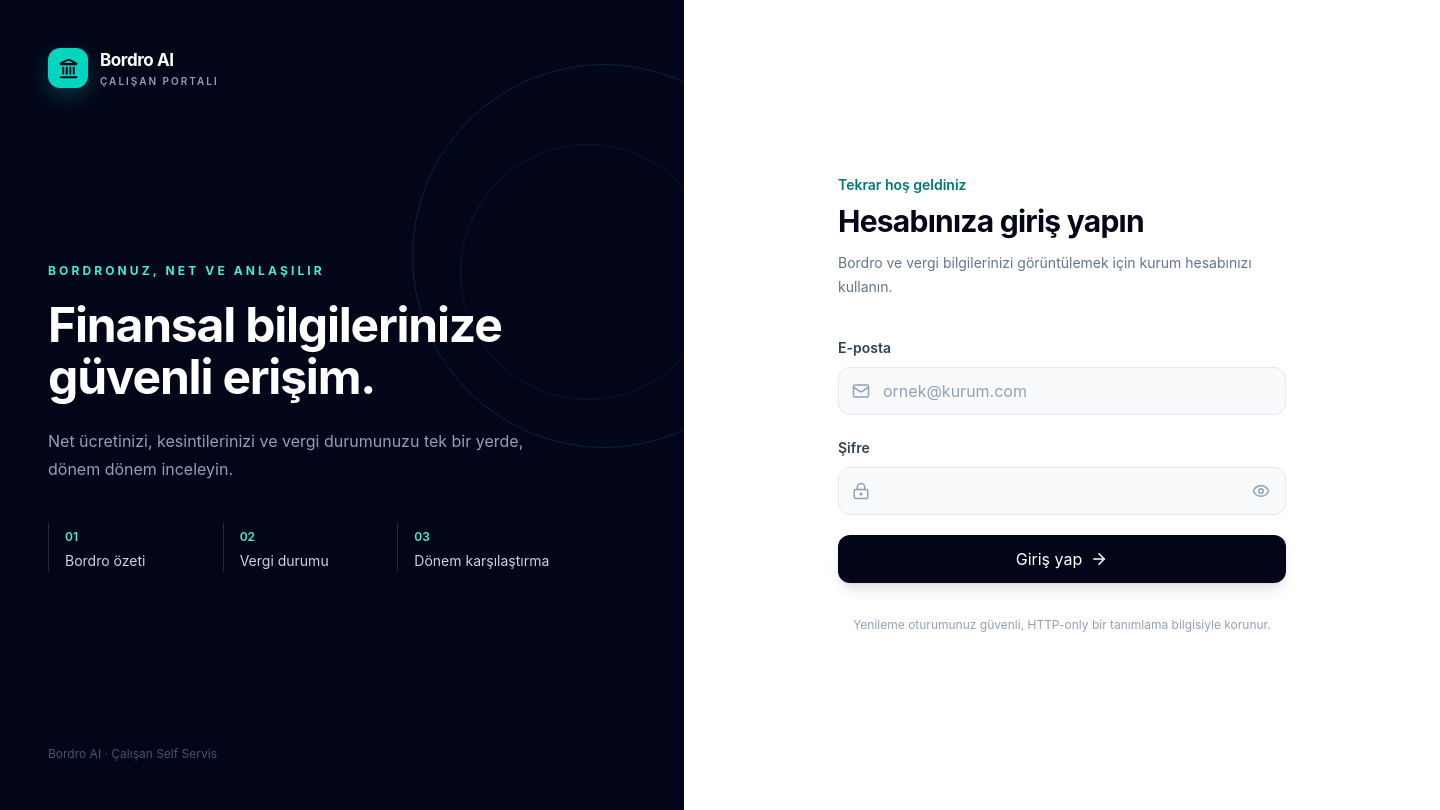
authentication routes › submits login credentials and opens the dashboard
Step 1. Type "employee@demo.local" into the field labelled "E-posta" → (1062, 391), box x1=838 y1=367 x2=1286 y2=415
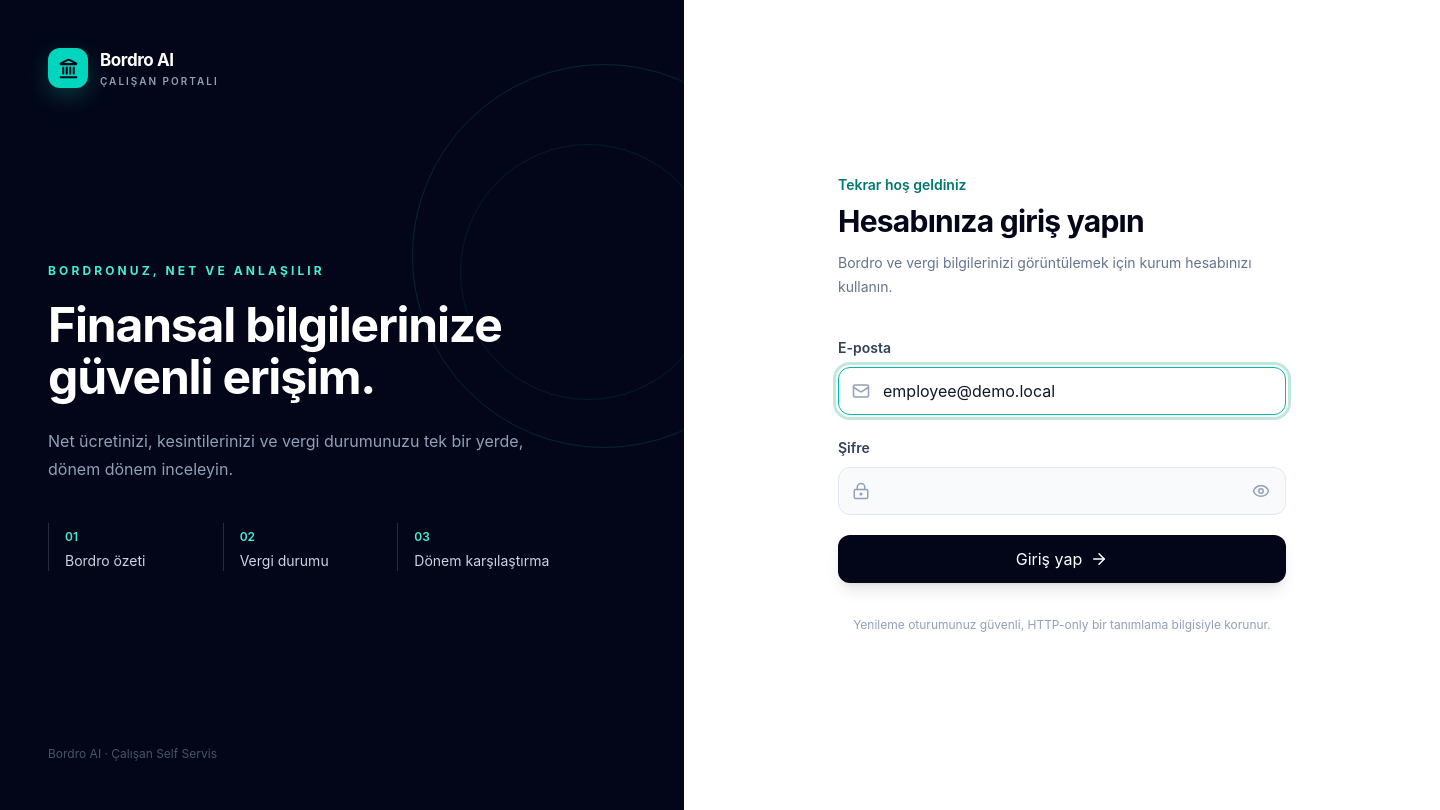
Step 2. Type "demo-password" into the password field labelled "Şifre" → (1062, 491), box x1=838 y1=467 x2=1286 y2=515
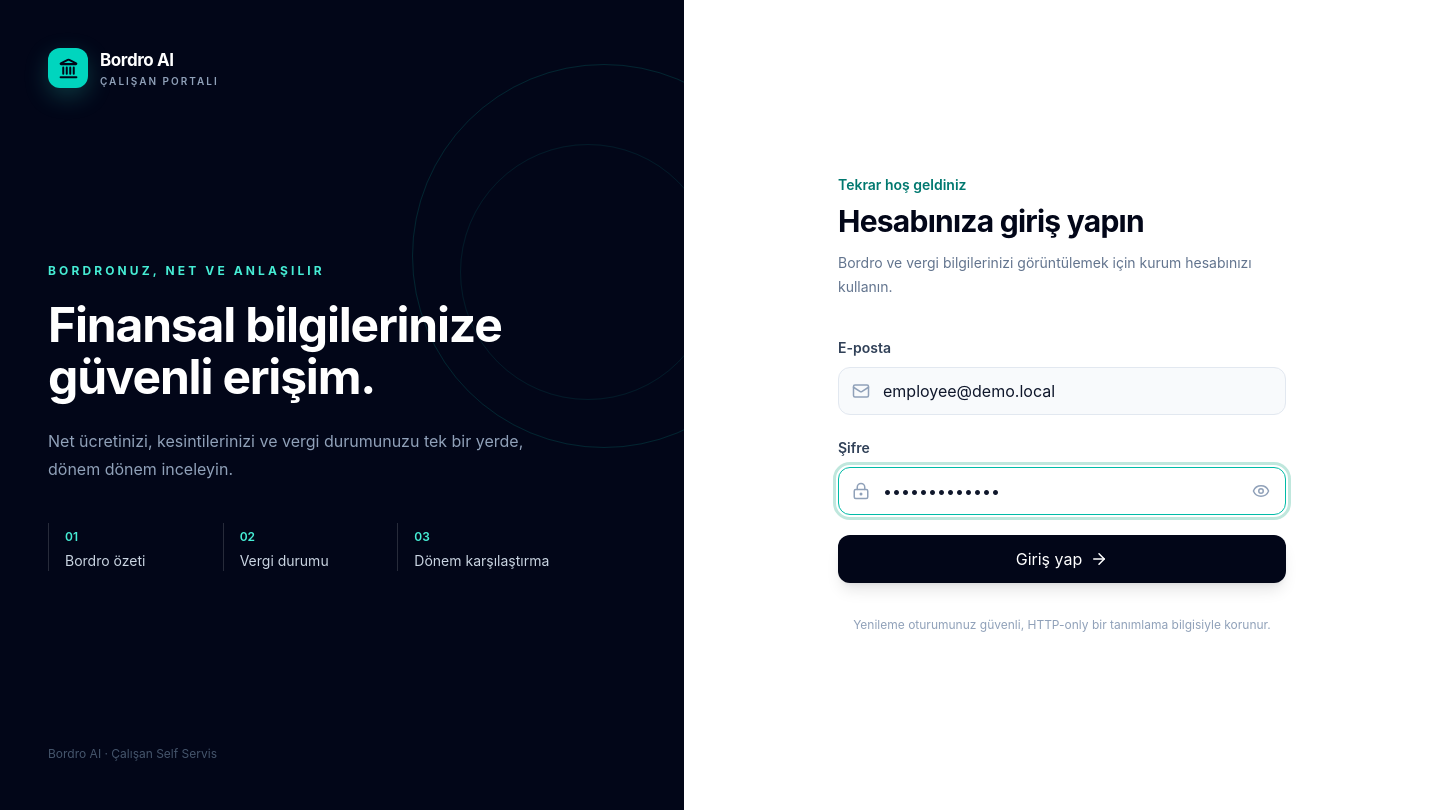
Step 3. Click the button "Giriş yap" → click(1062, 559), box x1=838 y1=535 x2=1286 y2=583
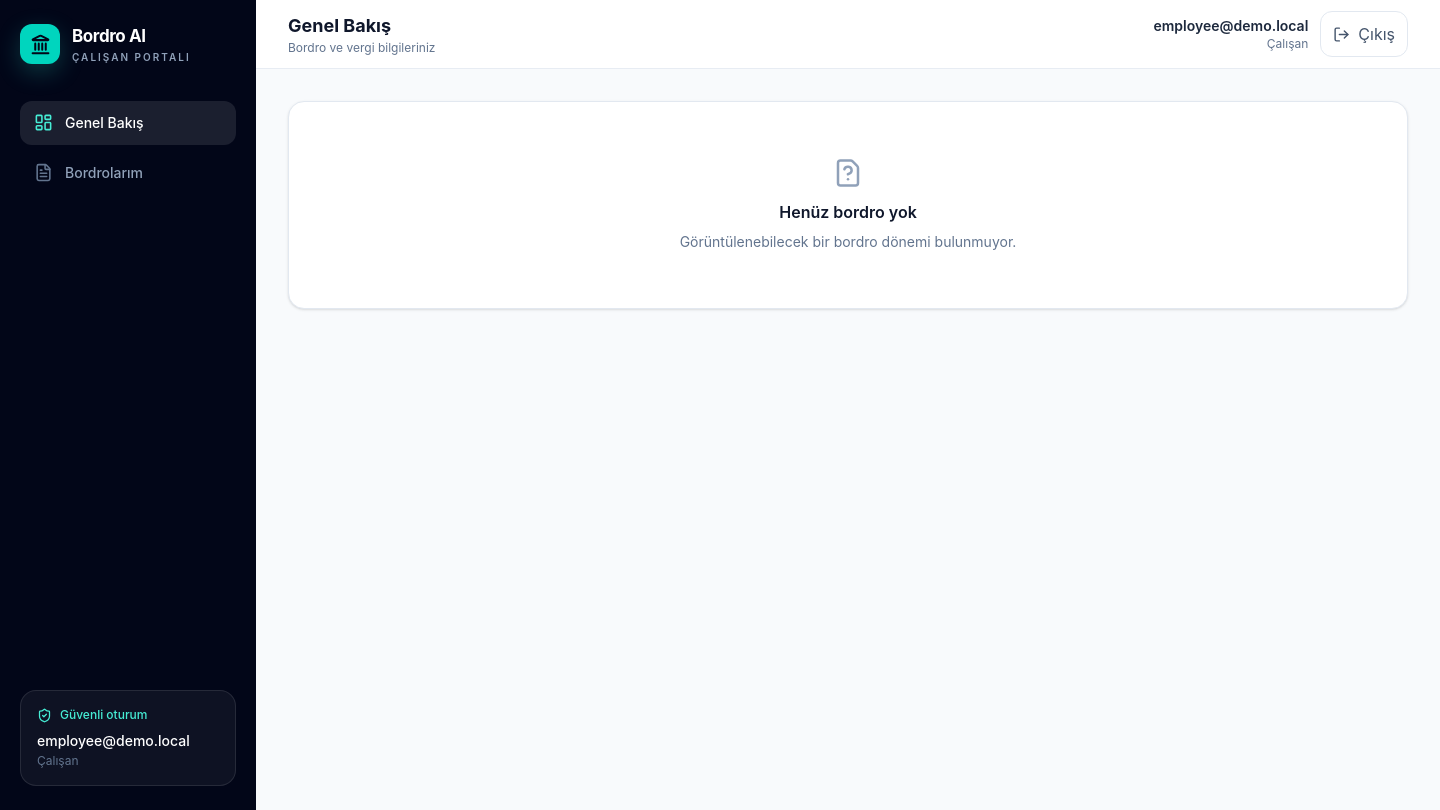
Check: the heading "Henüz bordro yok" is shown, box x1=779 y1=202 x2=917 y2=222
